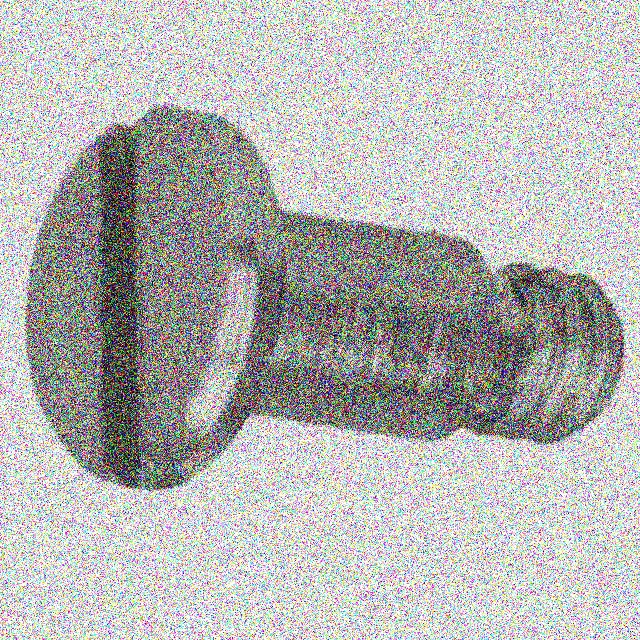duz: (24, 103, 287, 493)
